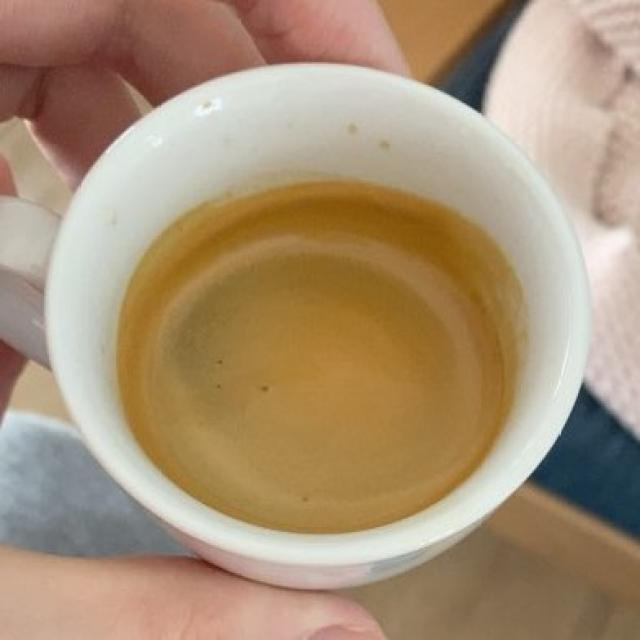espresso: (120, 176, 518, 521)
